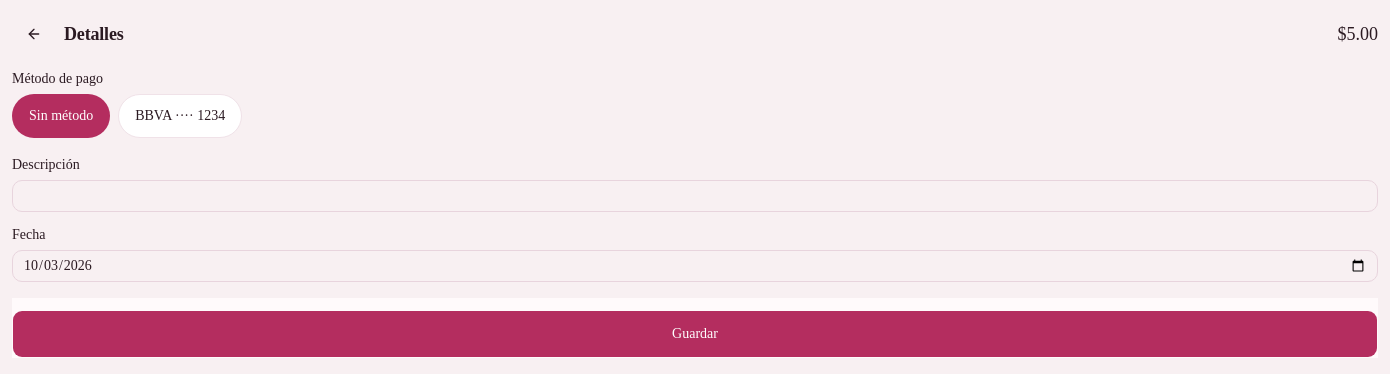
Test: QuickAddFlow › shows a back arrow on details even with a prefill, and it leads to the category step
The image size is (1390, 374).
Step 1. Click the button named "Atrás" → (34, 34), box [12,12,56,56]
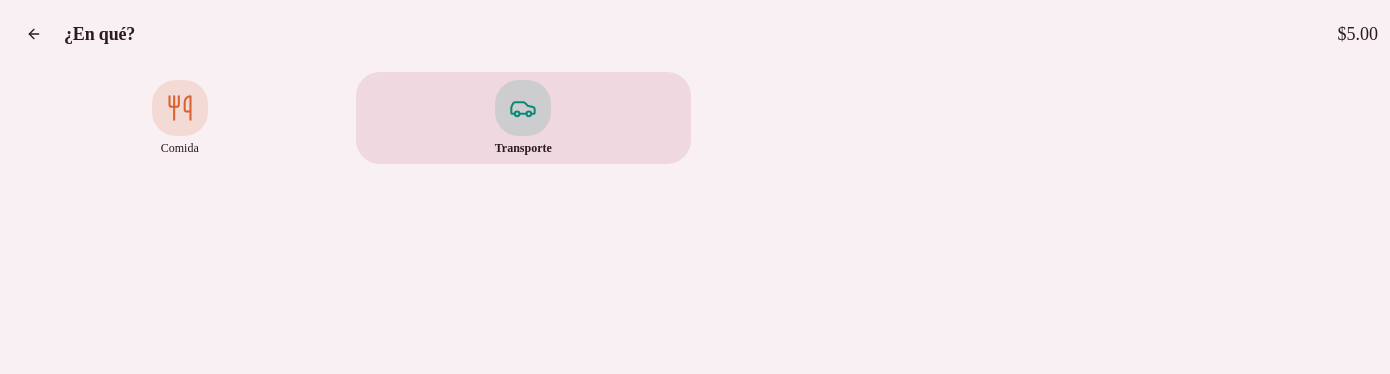
Expected: the element named "Categoría" is shown, [12,72,691,164]
